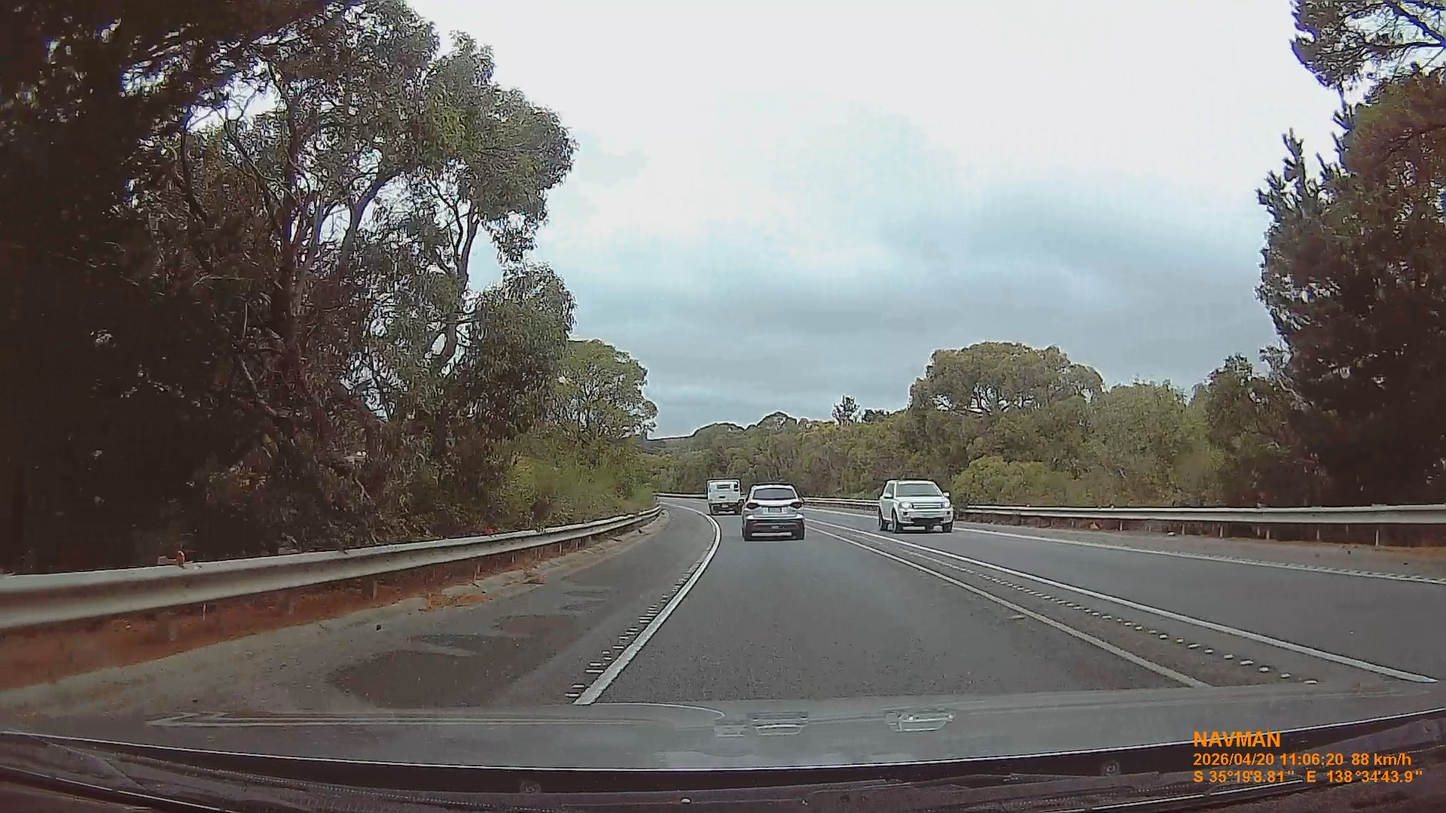road barriers: (3, 511, 646, 633), (958, 503, 1443, 545)
